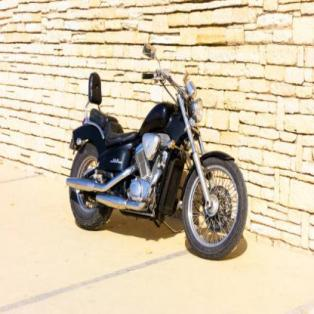Motocicleta: (63, 36, 249, 254)
